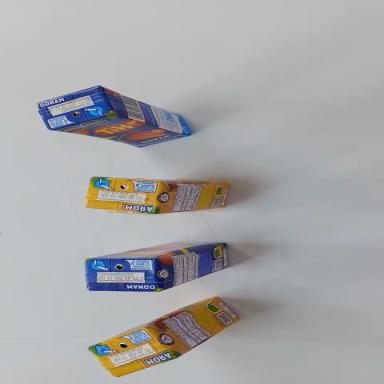HIT-MANGO: (35, 79, 194, 153), (85, 242, 228, 293)
HIT-MORA: (85, 292, 244, 383), (86, 177, 231, 217)
cara_F: (51, 99, 189, 165), (86, 228, 224, 273)
